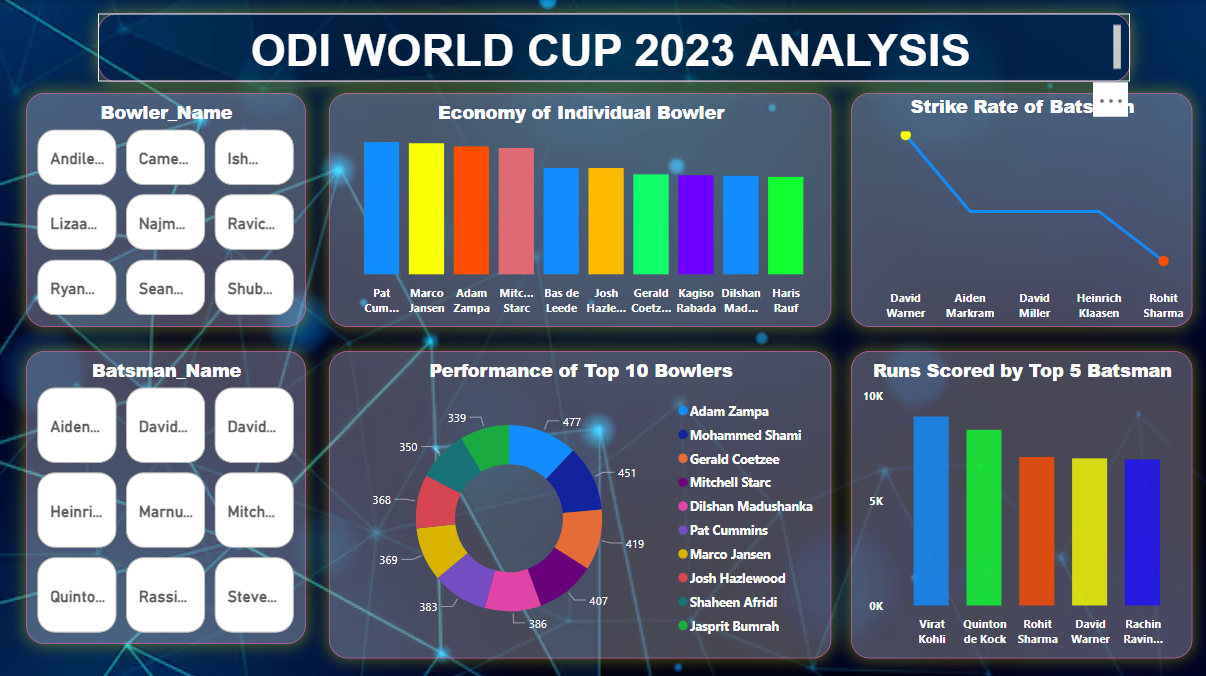

This screenshot's page, from the dashboard's own definition file:
{"tool":"powerbi","page":{"name":"Page 1","canvas":[1280,720],"ordinal":0},"visuals":[{"type":"columnChart","title":"Runs Scored by Top 5 Batsman","fields":{"Category":["merged_odi_stats.Batsman_Name"],"Y":["merged_odi_stats.Runs_bat"]},"box":[903.4,372.4,362.1,325.9],"z":0},{"type":"lineChart","title":"Strike Rate of Batsman","fields":{"Category":["merged_odi_stats.Batsman_Name"],"Y":["merged_odi_stats.Strike Rate_individual"]},"box":[903.4,98.3,362.1,248.3],"z":1000},{"type":"donutChart","title":"Performance of Top 10 Bowlers ","fields":{"Category":["merged_odi_stats.Bowler_Name"],"Y":["merged_odi_stats.Wickets"]},"box":[350,372.4,532.8,325.9],"z":2000},{"type":"lineStackedColumnComboChart","title":"Economy of Individual Bowler","fields":{"Category":["merged_odi_stats.Bowler_Name"],"Y":["merged_odi_stats.Economy"]},"box":[350,98.3,532.8,248.3],"z":3000},{"type":"advancedSlicerVisual","fields":{"Values":["merged_odi_stats.Batsman_Name"]},"box":[29.3,372.4,296.6,310.3],"z":4000},{"type":"advancedSlicerVisual","fields":{"Values":["merged_odi_stats.Bowler_Name"]},"box":[29.3,98.3,296.6,248.3],"z":4001},{"type":"textbox","box":[105.2,13.8,1094.8,72.4],"z":4002}]}

Visuals, with their boxes in screenshot pixels (x1, y1, x2, y2), scaled from the page's 1280x720 canvas onto the 1206x676 screenshot:
"Runs Scored by Top 5 Batsman" columnChart: detection(851, 350, 1192, 656)
"Strike Rate of Batsman" lineChart: detection(851, 92, 1192, 325)
"Performance of Top 10 Bowlers " donutChart: detection(330, 350, 832, 656)
"Economy of Individual Bowler" lineStackedColumnComboChart: detection(330, 92, 832, 325)
advancedSlicerVisual - merged_odi_stats.Batsman_Name: detection(28, 350, 307, 641)
advancedSlicerVisual - merged_odi_stats.Bowler_Name: detection(28, 92, 307, 325)
textbox: detection(99, 13, 1131, 81)
